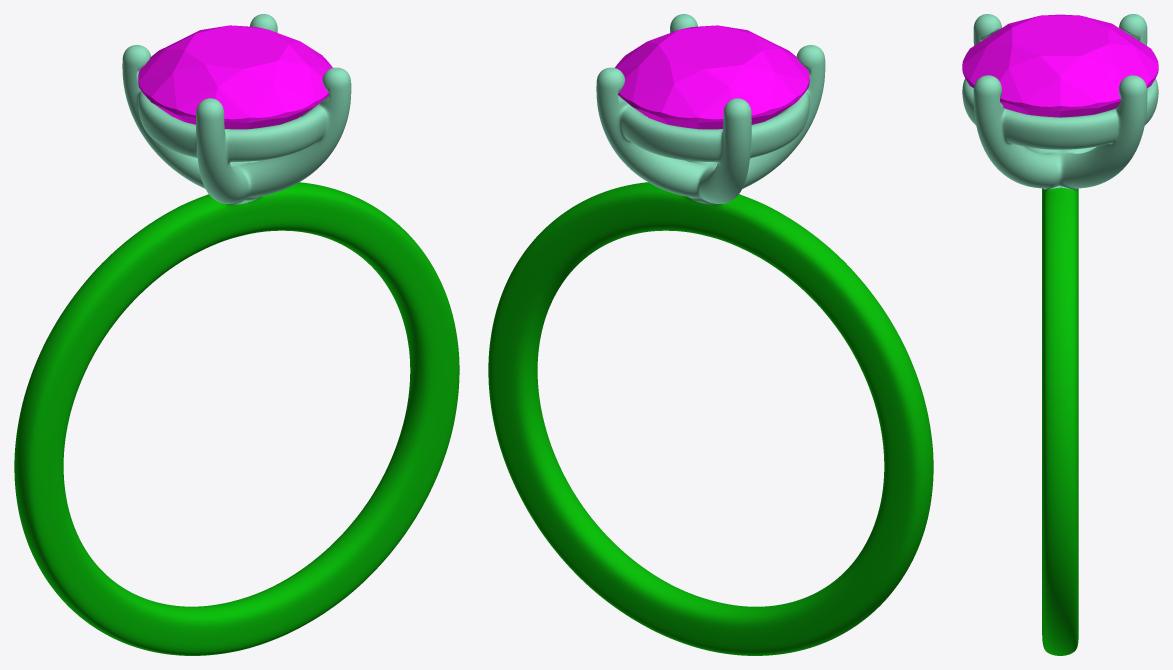
File: BE14873_RD_200ct_RENDER.glb
The picture shows the model from 3 angles, left to right: view 1: azimuth 30°, elevation 25°; view 2: azimuth 150°, elevation 25°; view 3: azimuth 270°, elevation 25°; orthographic projection.
Parts seen in each view (by area): view 1: Metal 01, Metal 02, CS_Diamond_Round; view 2: Metal 01, Metal 02, CS_Diamond_Round; view 3: Metal 01, Metal 02, CS_Diamond_Round.
Part boxes in pixels (x1,y1,x2,y2): Metal 01: [14, 182, 459, 655]; Metal 02: [122, 14, 351, 204]; CS_Diamond_Round: [138, 25, 332, 129]; Metal 01: [488, 182, 933, 655]; Metal 02: [596, 14, 825, 204]; CS_Diamond_Round: [615, 25, 809, 129]; Metal 01: [1042, 187, 1078, 655]; Metal 02: [962, 14, 1158, 189]; CS_Diamond_Round: [962, 14, 1158, 117].
Size of the model in its own units: 20.49 by 26.84 by 8.
